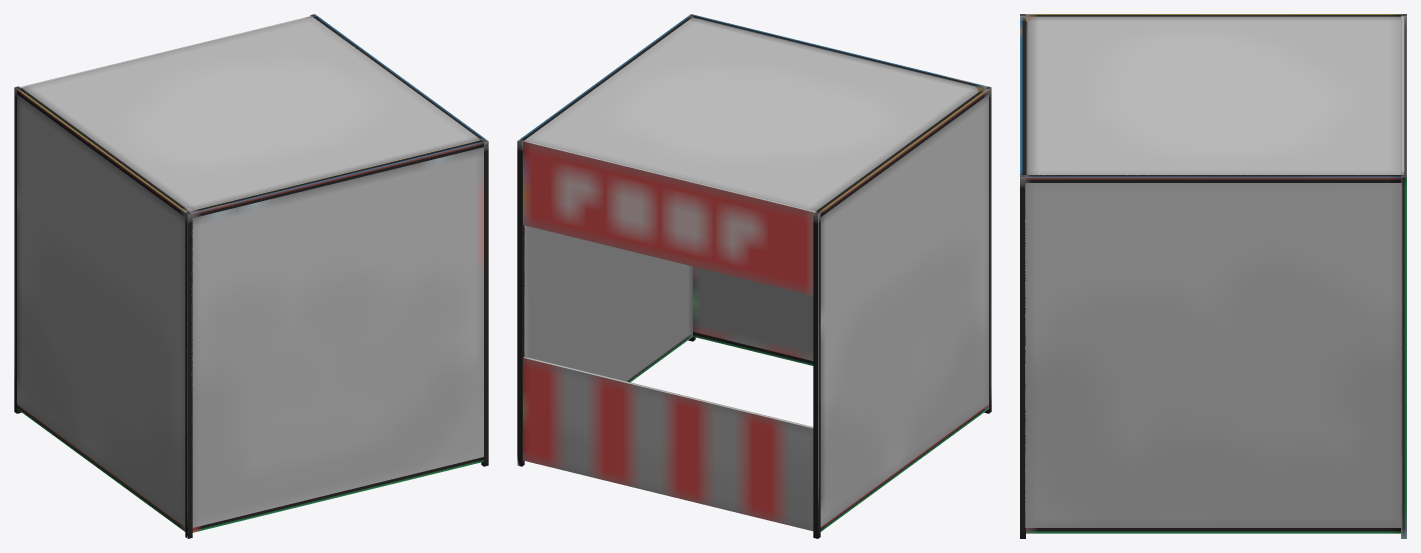
The model's file is Booth1.fbx.
3 views of the same model, side by side, from view 1: azimuth 30°, elevation 25°; view 2: azimuth 150°, elevation 25°; view 3: azimuth 270°, elevation 25° (orthographic). The views are drawn at different scales.
Visible parts, largest first — view 1: cube_15, cube_14, cube_12, cube_3, cube_5, cube_7, cube_2, cube_9, cube_1, cube_8, cube_6, cube_4; view 2: cube_14, cube_12, cube_10, cube_4, cube_13, cube_15, cube_1, cube, cube_7, cube_5, cube_3, cube_8 (+2 smaller); view 3: cube_13, cube_12, cube_6, cube_11, cube_2, cube, cube_7, cube_5, cube_4, cube_1.
Boxes of the visible parts, <box> form: cube_15: <box>191,147,483,527</box>; cube_14: <box>17,94,185,526</box>; cube_12: <box>22,17,480,211</box>; cube_3: <box>185,211,192,538</box>; cube_5: <box>190,140,483,217</box>; cube_7: <box>17,88,189,216</box>; cube_2: <box>481,139,488,466</box>; cube_9: <box>192,457,483,532</box>; cube_1: <box>14,86,21,413</box>; cube_8: <box>17,404,185,531</box>; cube_6: <box>313,16,488,146</box>; cube_4: <box>20,16,312,87</box>; cube_14: <box>820,94,988,526</box>; cube_12: <box>525,17,983,211</box>; cube_10: <box>523,356,813,531</box>; cube_4: <box>523,140,815,295</box>; cube_13: <box>524,225,692,380</box>; cube_15: <box>693,266,813,360</box>; cube_1: <box>813,211,820,538</box>; cube: <box>517,139,524,466</box>; cube_7: <box>816,88,988,216</box>; cube_5: <box>693,15,986,88</box>; cube_3: <box>984,86,991,413</box>; cube_8: <box>820,404,988,531</box>; cube_13: <box>1025,183,1401,527</box>; cube_12: <box>1027,16,1400,175</box>; cube_6: <box>1020,175,1400,182</box>; cube_11: <box>1026,528,1400,533</box>; cube_2: <box>1020,175,1025,538</box>; cube: <box>1401,175,1406,538</box>; cube_7: <box>1026,14,1400,21</box>; cube_5: <box>1020,16,1025,174</box>; cube_4: <box>1401,16,1404,174</box>; cube_1: <box>1401,14,1406,174</box>.
Size of the model in its own units: 100 by 103 by 100.
Materials: 1 (1 with a texture image).
